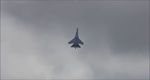maybay_muctieu: (67, 25, 85, 50)
